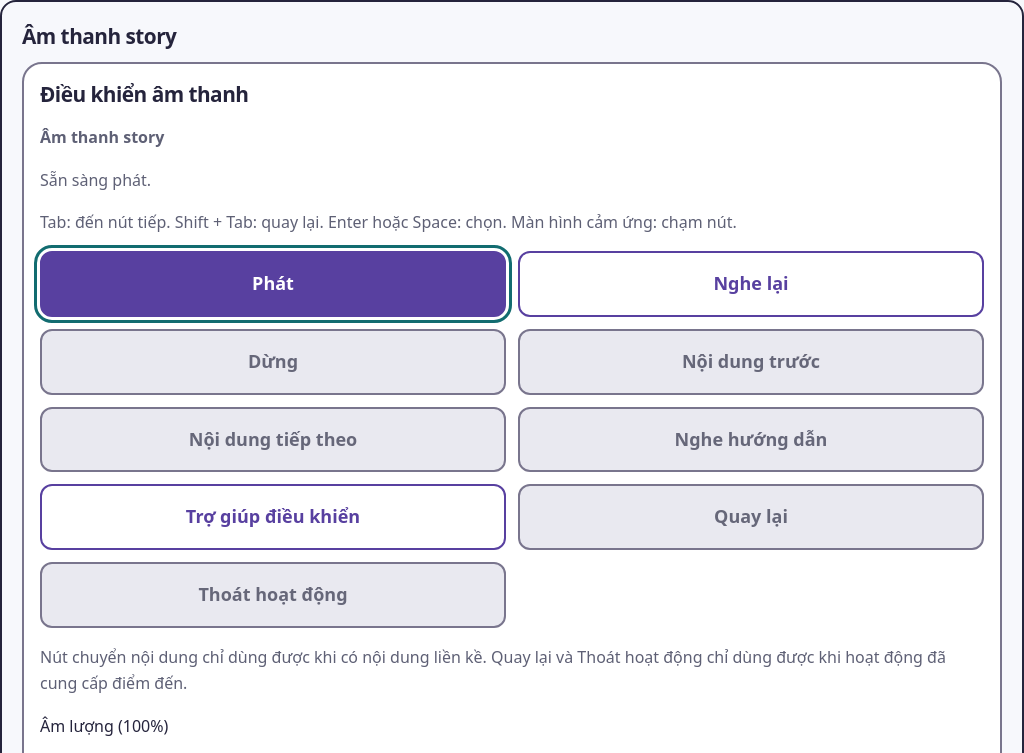
preserves keyboard focus during loading and lets Stop cancel a pending source
Press Enter
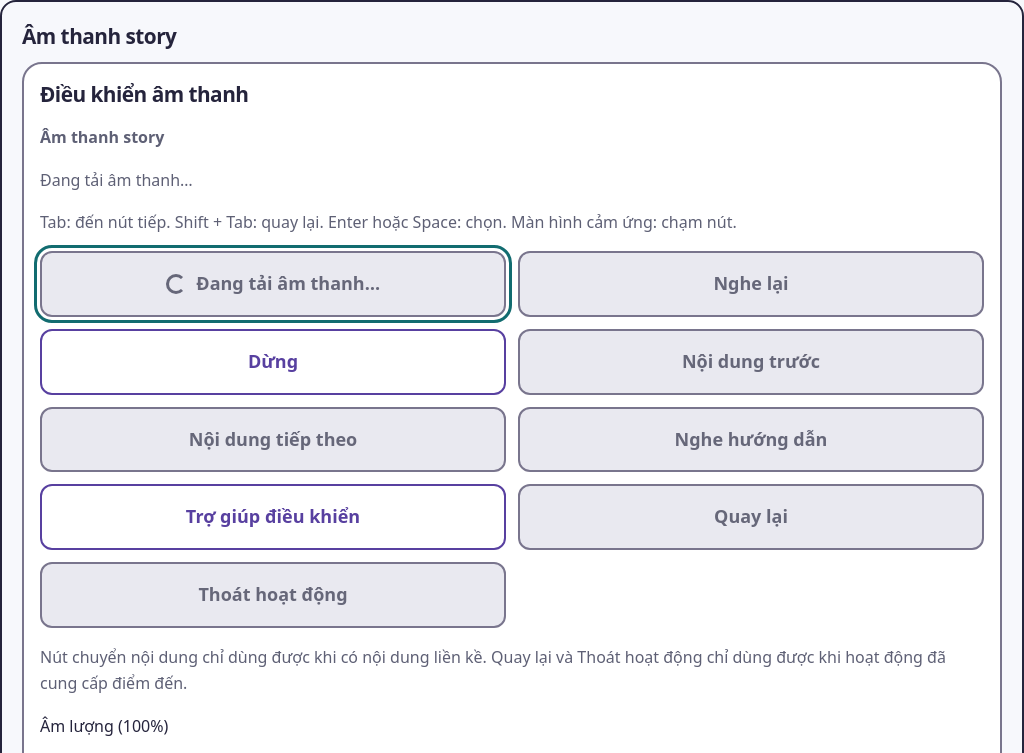
Now the button "Đang tải âm thanh…" has attribute aria-busy="true", box [40,251,506,317]
Click the button "Dừng" at [273, 362], box [40,329,506,395]
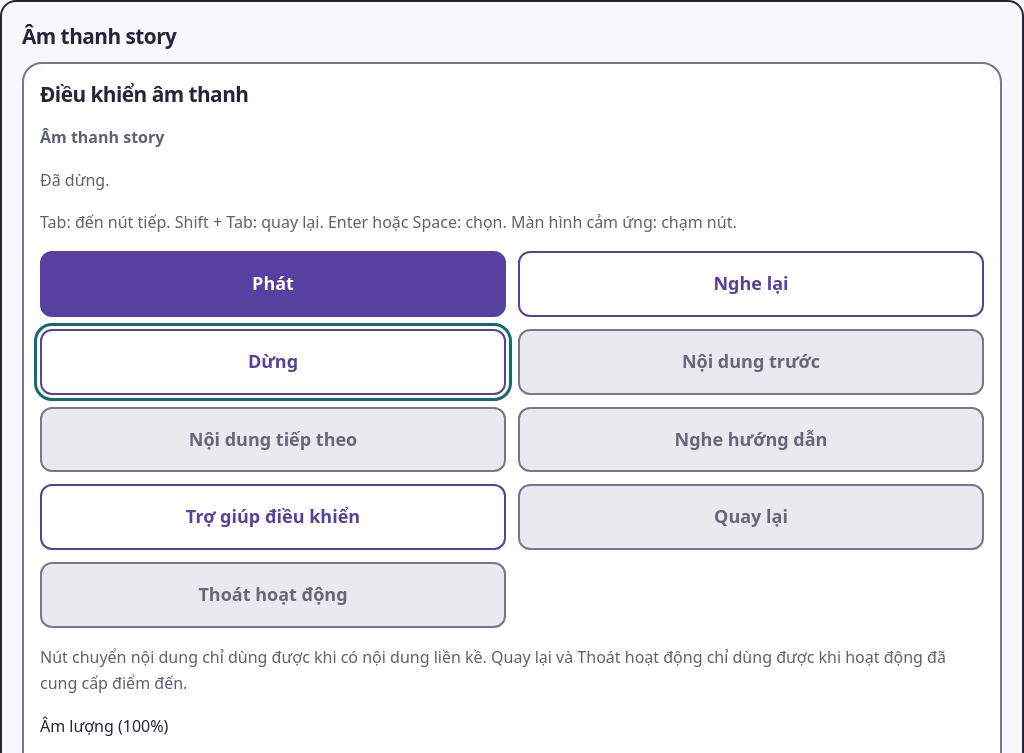
Now the message named "Trạng thái âm thanh" reads "Đã dừng.", box [40,168,110,190]
